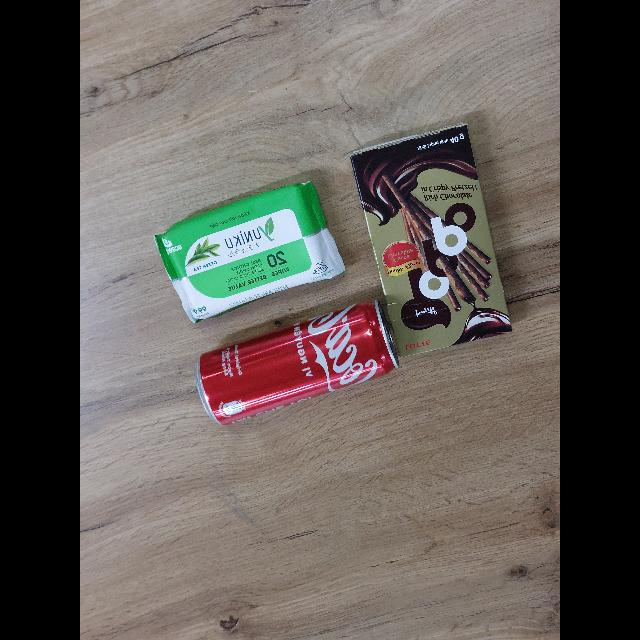banh_toppo_socola: (351, 124, 511, 358)
coca_cola: (196, 301, 398, 425)
khan_giay: (155, 182, 345, 322)
